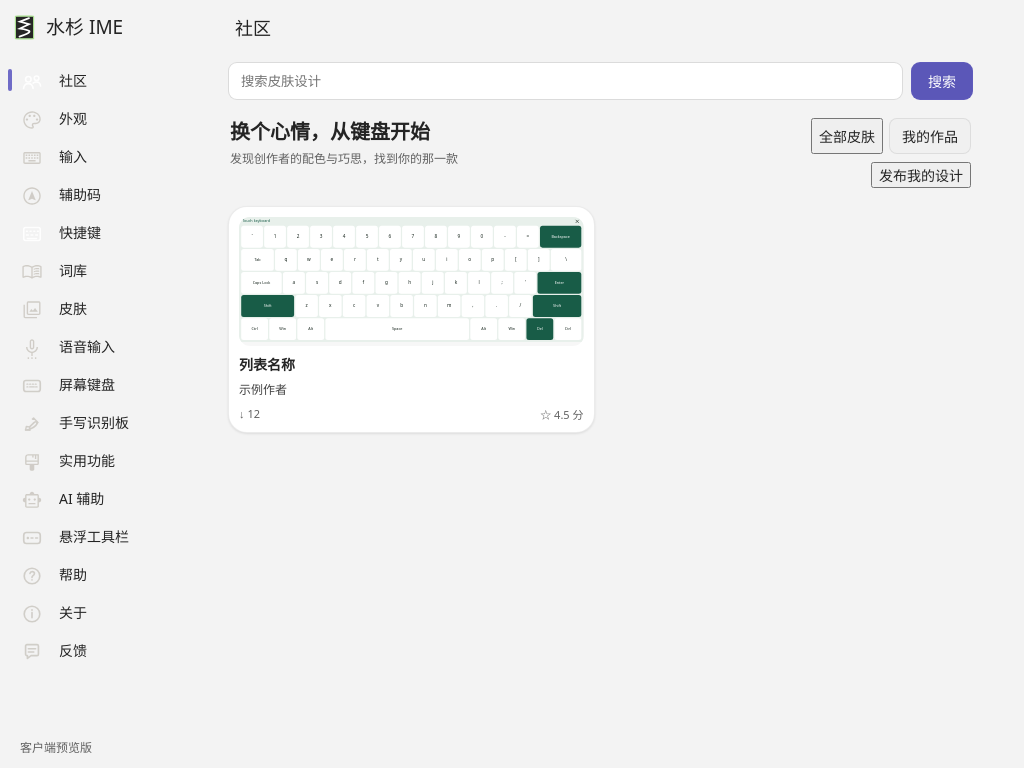
opening a card refreshes detail without mutating preferences or the local library
The width and height of the screenshot is (1024, 768).
What coordinates should you click on to do the following:
click the button with aria-label "查看皮肤 列表名称"
I would click on:
 (411, 320)
Its box is top-left (228, 206), bottom-right (594, 433).
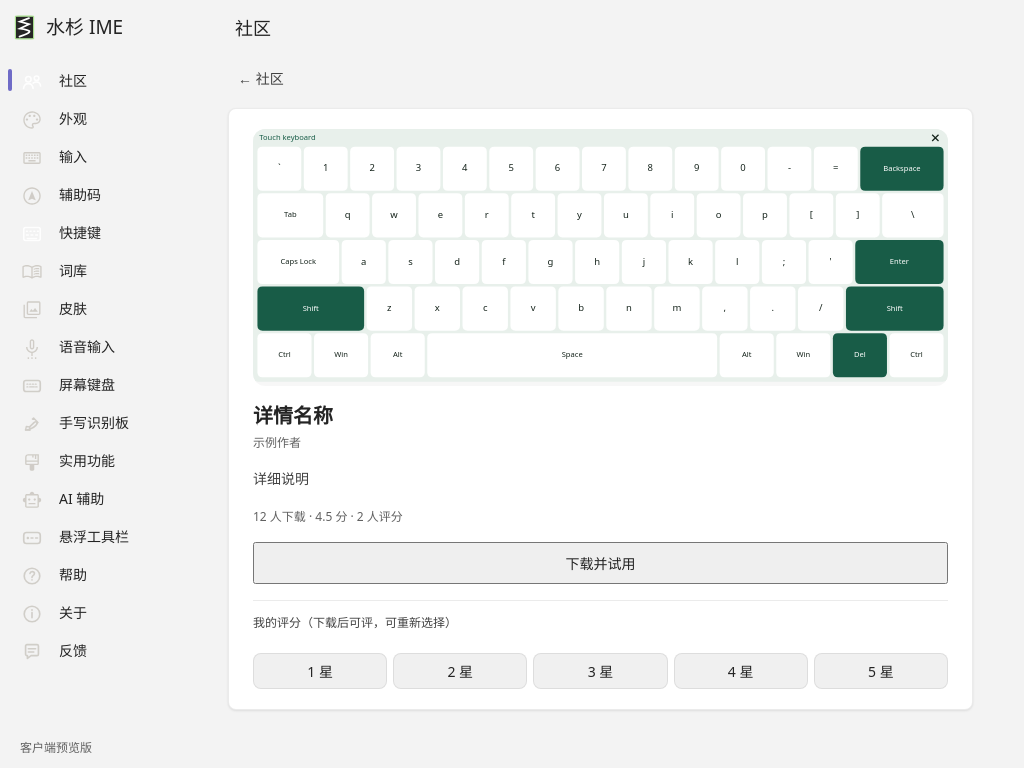
Result: the heading "详情名称" is shown at top-left (253, 402), bottom-right (333, 430)
Result: the text "详细说明" is shown at top-left (253, 469), bottom-right (309, 488)
